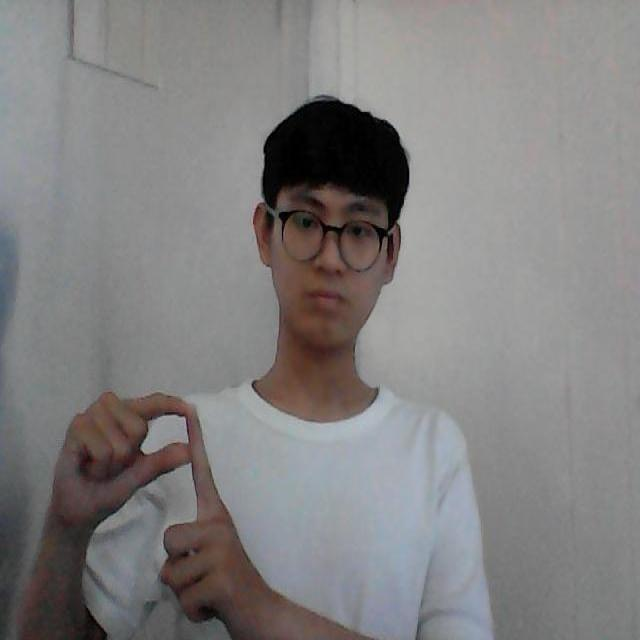P: (76, 386, 235, 622)
